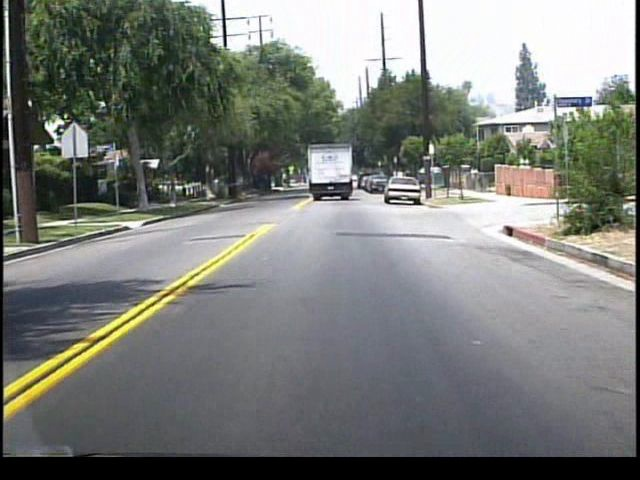person: (469, 165, 480, 192)
